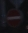No entry: (6, 6, 23, 28)
